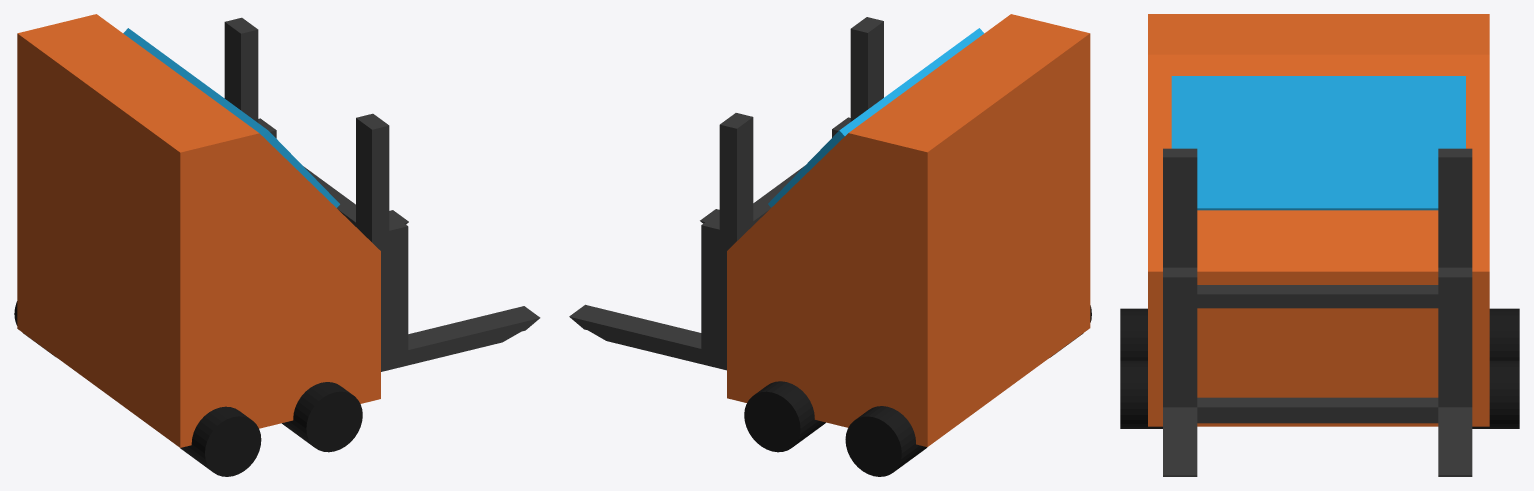
Rendered from playerr.fbx.
3 renders of one model, left to right at view 1: azimuth 30°, elevation 25°; view 2: azimuth 150°, elevation 25°; view 3: azimuth 270°, elevation 25°, orthographic. The views are drawn at different scales.
Visible parts, largest first — view 1: Cube; view 2: Cube; view 3: Cube.
Boxes of the visible parts, <box> form: Cube: <box>14,14,540,476</box>; Cube: <box>569,14,1091,476</box>; Cube: <box>1120,14,1519,476</box>.
Bounding box in the file's own units: 130 × 110 × 117.
